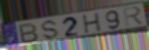2: (61, 15, 83, 39)
9: (105, 10, 122, 31)
B: (18, 22, 41, 45)
H: (81, 11, 102, 35)
R: (122, 5, 146, 28)
S: (41, 19, 61, 40)
